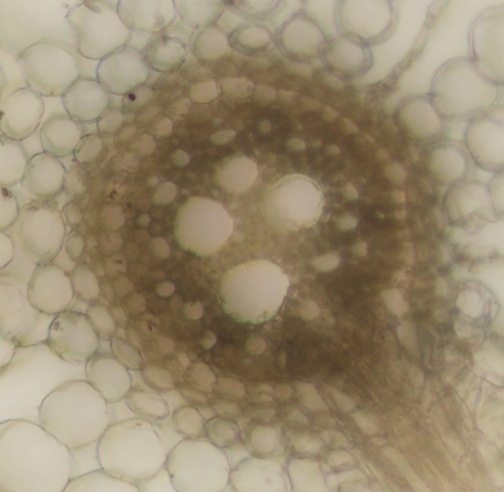lm: (218, 259, 289, 323), (260, 174, 325, 235), (173, 196, 234, 259), (213, 152, 259, 195)
